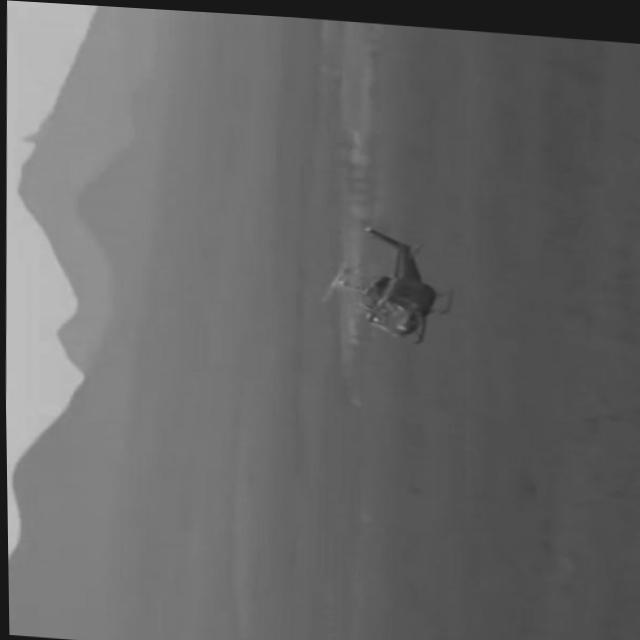helikopter: (302, 198, 472, 357)
